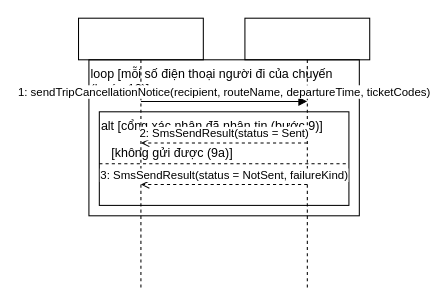
Some shapes in this 448 by 307 pixel diagram are drawn without their labels. The centre of each missing label's shape, as x and y in pixels:
":DC-CancelTripService" belongs at (140,153).
"«interface» :IF-02 ISmsGateway" belongs at (307,153).
